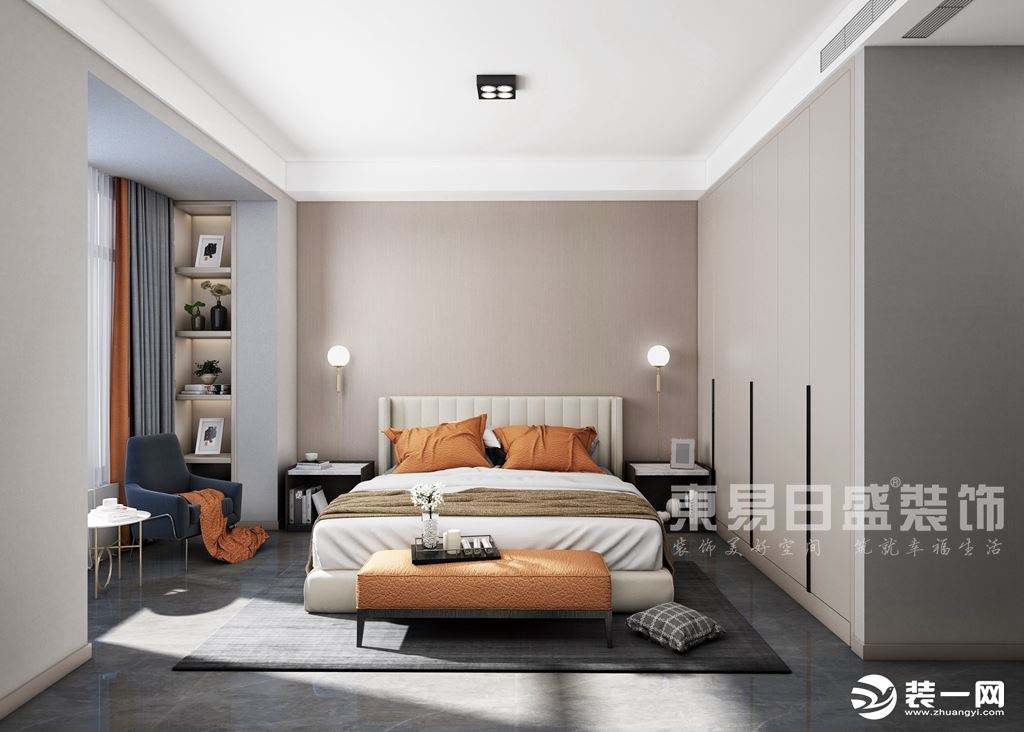床: (310, 468, 646, 649)
枕头: (379, 416, 600, 476), (623, 599, 723, 658)
灯: (635, 345, 671, 380), (475, 78, 519, 103), (320, 345, 352, 378)
